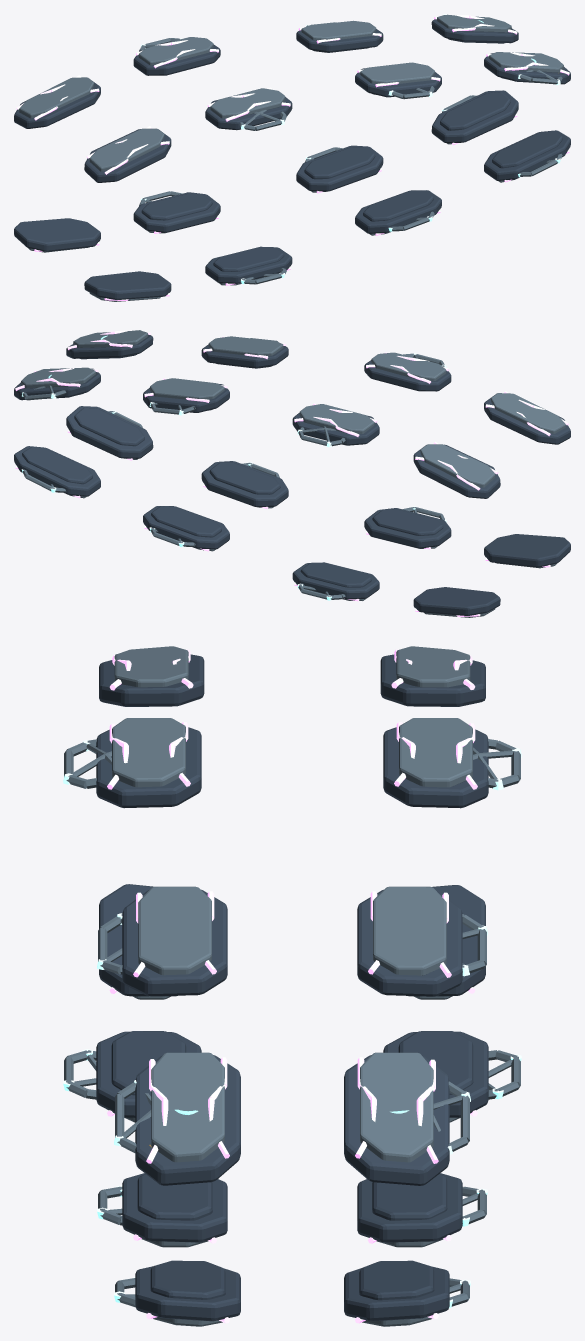
The model's file is plating.glb.
3 views of the same model, one above another, from view 1: azimuth 30°, elevation 25°; view 2: azimuth 150°, elevation 25°; view 3: azimuth 270°, elevation 25° (orthographic). The views are drawn at different scales.
Visible parts, largest first — view 1: p_heavy Fitting gunmetal, p_heavy Brushed fitting edges, p_aegis Fitting gunmetal, p_light Brushed fitting edges, p_heavy p_heavy emitter; view 2: p_heavy Fitting gunmetal, p_heavy Brushed fitting edges, p_aegis Fitting gunmetal, p_light Brushed fitting edges, p_heavy p_heavy emitter; view 3: p_heavy Fitting gunmetal, p_heavy Brushed fitting edges, p_aegis Fitting gunmetal, p_light Brushed fitting edges, p_heavy p_heavy emitter, p_light p_light emitter.
Part boxes in pixels (x1,y1,x2,y2): p_heavy Fitting gunmetal: (14, 19, 570, 299); p_heavy Brushed fitting edges: (19, 15, 563, 301); p_aegis Fitting gunmetal: (141, 38, 562, 271); p_light Brushed fitting edges: (139, 14, 562, 284); p_heavy p_heavy emitter: (16, 15, 569, 300); p_heavy Fitting gunmetal: (14, 334, 570, 615); p_heavy Brushed fitting edges: (21, 330, 565, 617); p_aegis Fitting gunmetal: (22, 354, 443, 587); p_light Brushed fitting edges: (22, 330, 444, 599); p_heavy p_heavy emitter: (15, 330, 568, 616); p_heavy Fitting gunmetal: (96, 654, 488, 1321); p_heavy Brushed fitting edges: (112, 646, 472, 1326); p_aegis Fitting gunmetal: (111, 807, 473, 1300); p_light Brushed fitting edges: (64, 739, 520, 1307); p_heavy p_heavy emitter: (107, 649, 477, 1323); p_light p_light emitter: (63, 740, 521, 1308).
Bounding box in the file's own units: 40.2 × 13.9 × 16.52.
